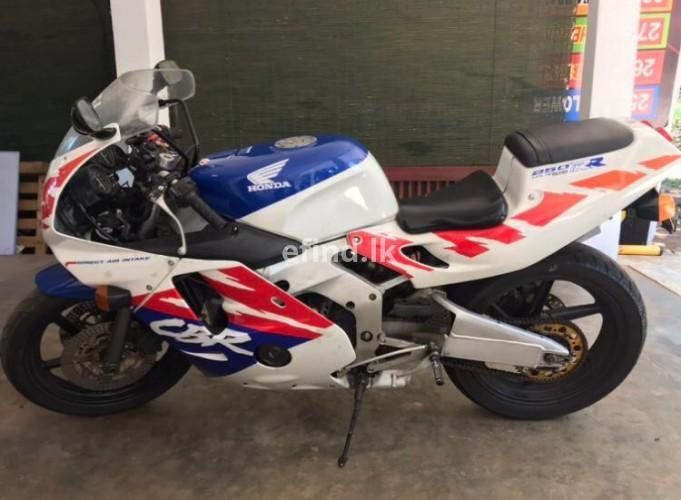motorbike: (1, 61, 681, 421)
